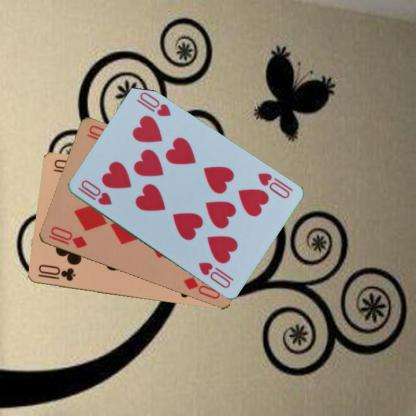10c: (35, 262, 77, 282)
10d: (45, 224, 88, 250)
10h: (74, 177, 112, 207), (254, 170, 291, 200)
